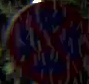No waiting: (2, 1, 85, 83)
